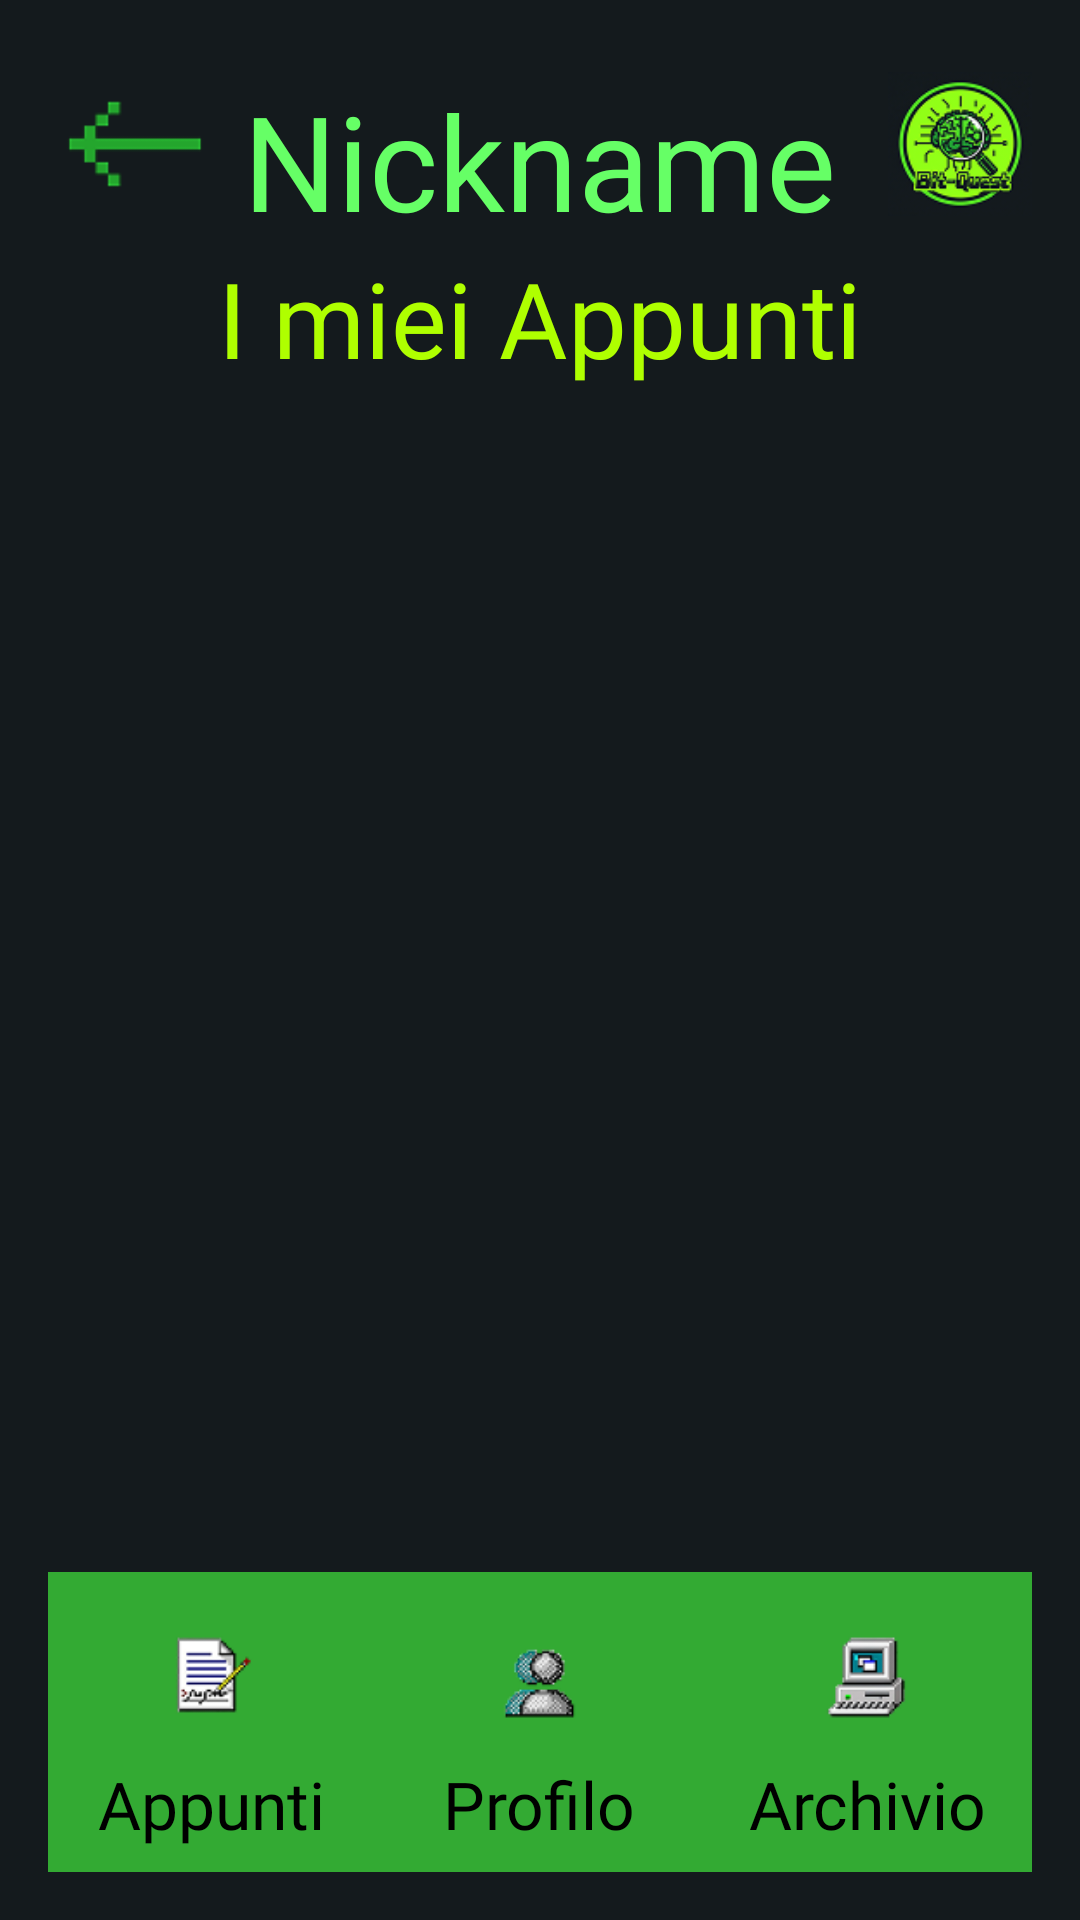

Screen size 1080px x 1920px. Icon name, then its box in pixels as BBox(x1, y1, x2, y2):
arrow back: BBox(69, 101, 201, 187)
notes: BBox(177, 1637, 251, 1713)
profile: BBox(505, 1649, 574, 1718)
